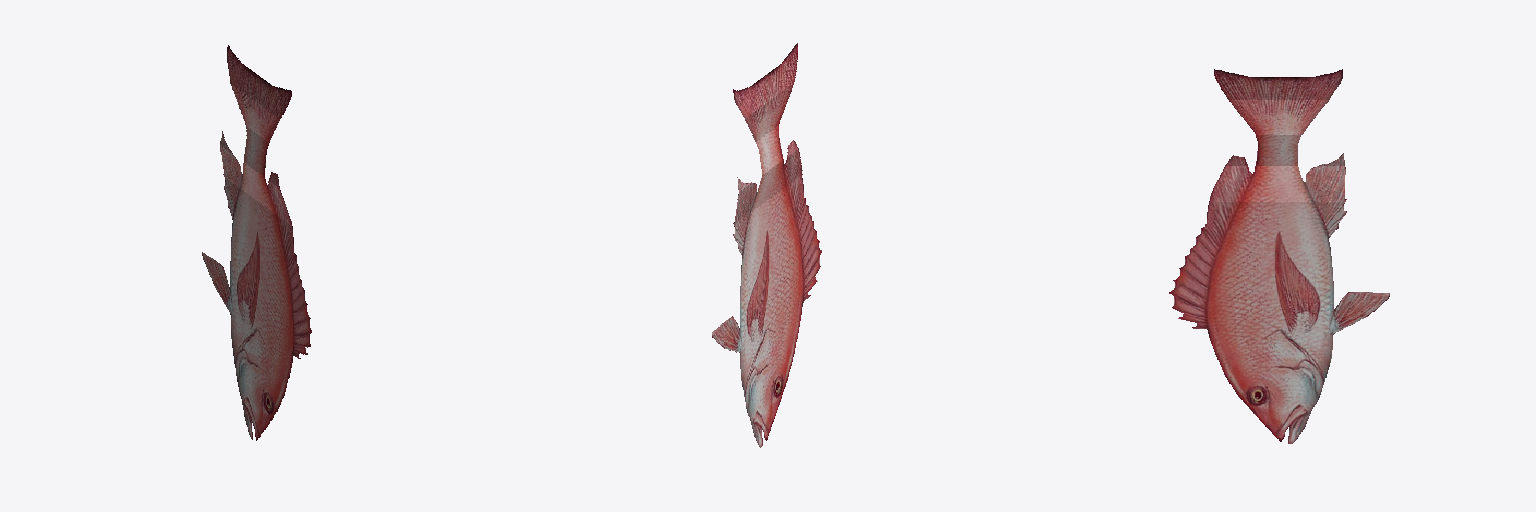
3 views of the same model, side by side, from view 1: azimuth 30°, elevation 25°; view 2: azimuth 150°, elevation 25°; view 3: azimuth 270°, elevation 25° (orthographic).
Size of the model in its own units: 0.0378 by 1.99 by 1.06.
1 materials, 1 textured.